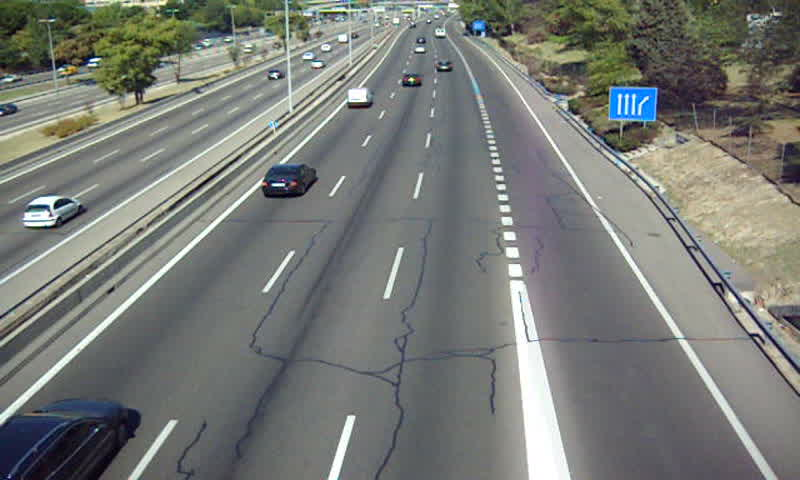car: (1, 399, 128, 480), (263, 164, 316, 198), (400, 72, 422, 88), (433, 59, 454, 74)
van: (346, 88, 371, 108)
